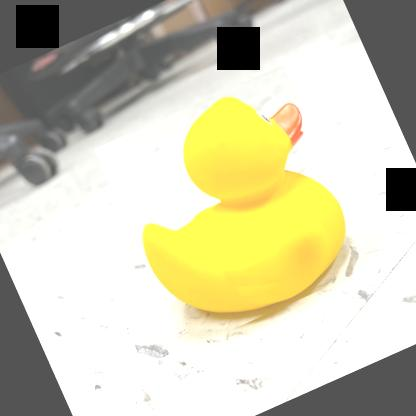duck: (94, 64, 372, 350)
